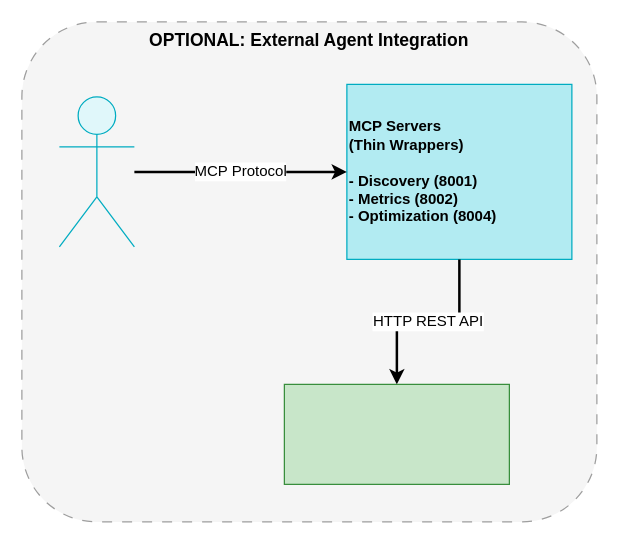
This 619x544 diagram has some shape labels left out. Each missing label, with the box of its shape:
AI Agents (Bob IDE, Claude Desktop): (58, 96, 134, 247)
Backend API (8000) (Same as above): (283, 383, 509, 484)
